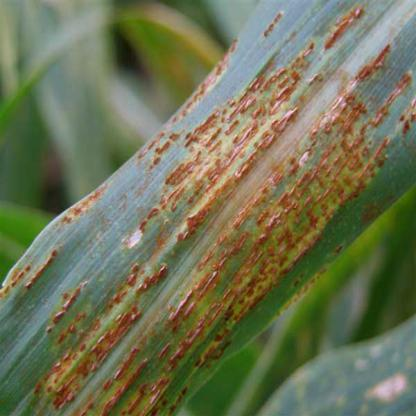Corn rust leaf: (1, 2, 415, 414)
